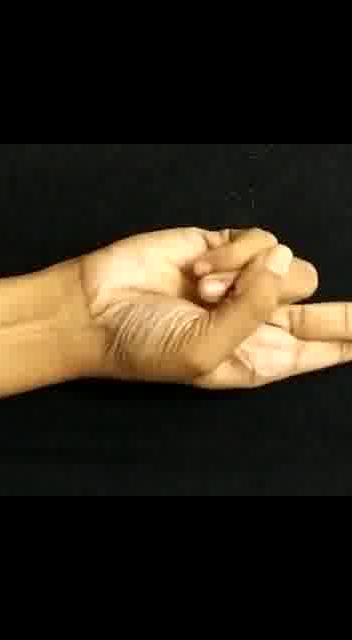kartarimukh: (50, 224, 352, 395)
